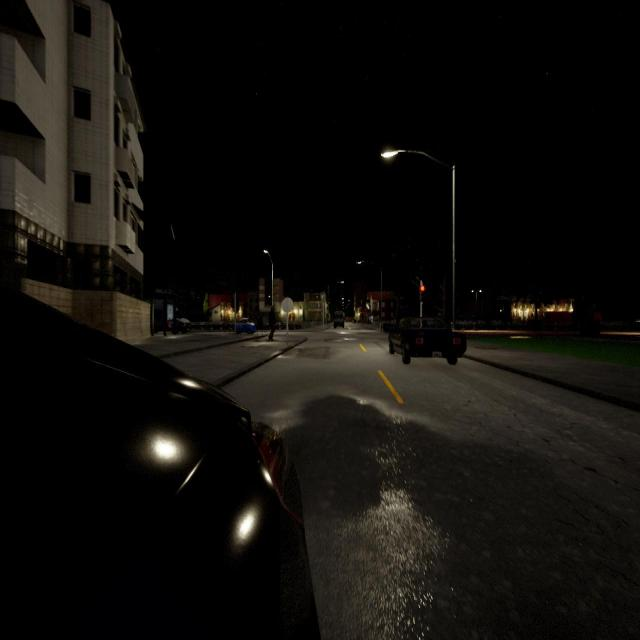Pedestrian: (268, 304, 276, 342)
Traffic_Signs: (281, 297, 294, 312)
Vehicle: (0, 286, 319, 637), (388, 315, 468, 364), (154, 318, 190, 335), (235, 317, 257, 335), (331, 308, 346, 329)
traffic_light: (420, 283, 426, 302)
